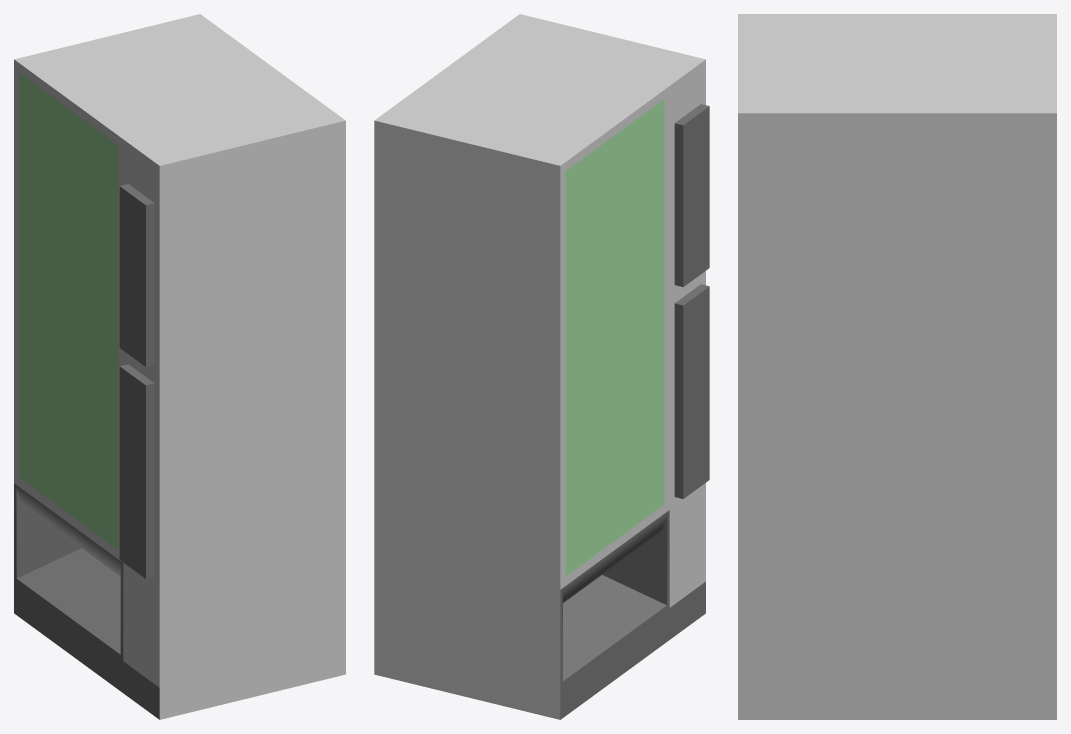
The model's file is VendingMachine.fbx.
3 renders of one model, left to right at view 1: azimuth 30°, elevation 25°; view 2: azimuth 150°, elevation 25°; view 3: azimuth 270°, elevation 25°, orthographic. The views are drawn at different scales.
Parts seen in each view (by area): view 1: Vending_Machine; view 2: Vending_Machine; view 3: Vending_Machine.
Part boxes in pixels (x1=…): Vending_Machine: x1=14, y1=14, x2=345, y2=719; Vending_Machine: x1=374, y1=14, x2=709, y2=719; Vending_Machine: x1=738, y1=14, x2=1056, y2=719.
Bounding box in the file's own units: 1.11 × 3.02 × 1.44.
